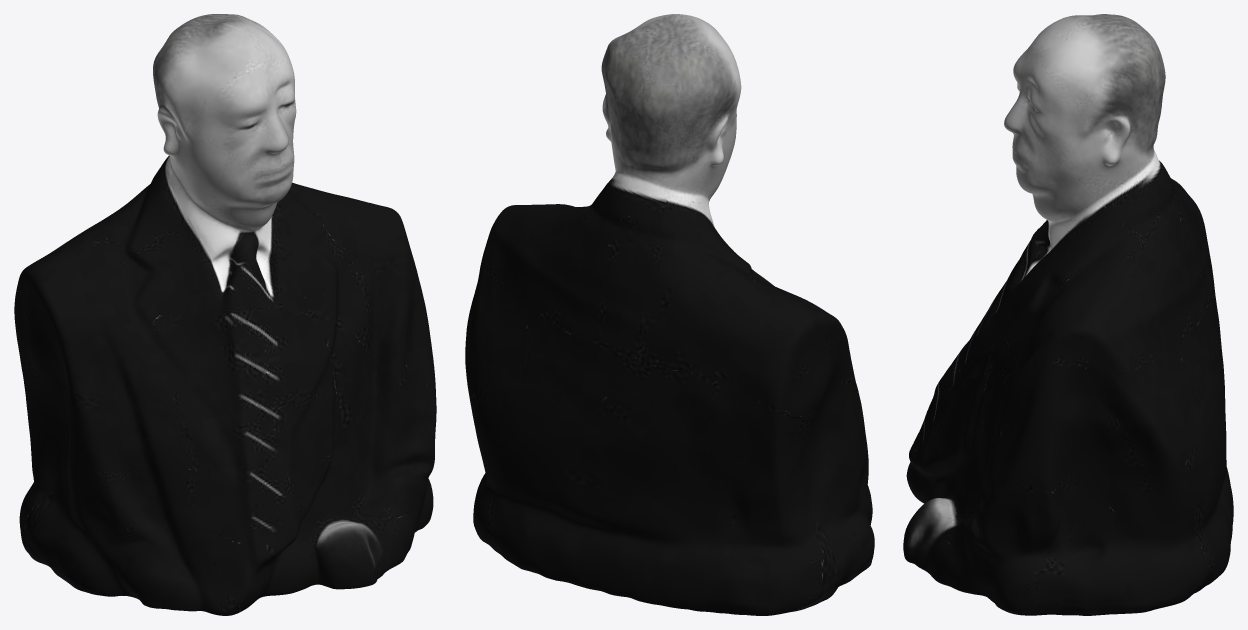
File: alfred_hitchcock_compressed.glb
3 renders of one model, left to right at view 1: azimuth 30°, elevation 25°; view 2: azimuth 150°, elevation 25°; view 3: azimuth 270°, elevation 25°, orthographic. The views are drawn at different scales.
Size of the model in its own units: 1.39 by 1.9 by 1.1.
Materials: 1 (1 with a texture image).
